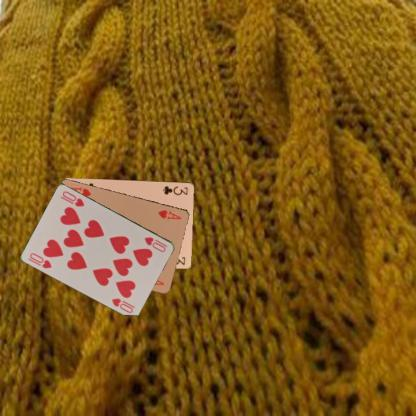10h: (142, 234, 169, 254), (27, 250, 53, 270)
3c: (160, 183, 189, 197)
Ah: (156, 207, 182, 221)
